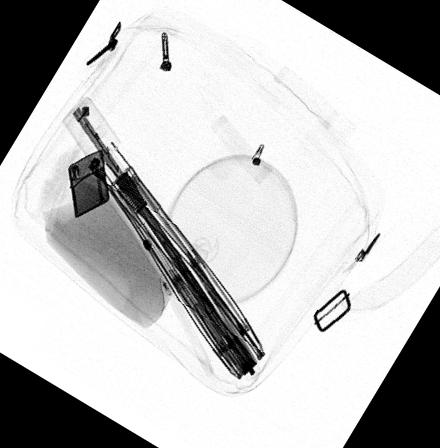Lighter: (67, 149, 109, 217)
